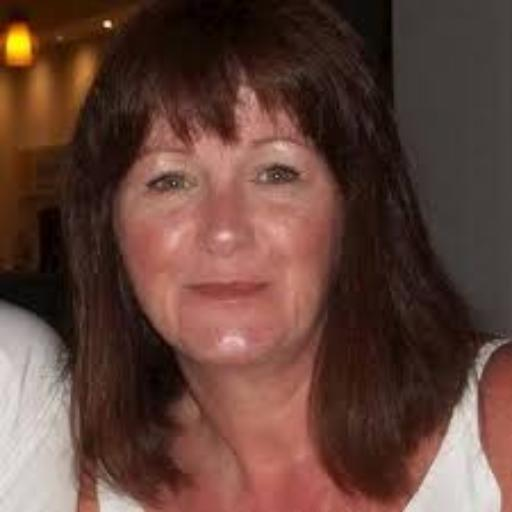left_eye: (250, 163, 306, 192)
left_lip_corner: (255, 275, 278, 296)
right_eye: (147, 171, 196, 198)
right_lip_corner: (178, 278, 203, 298)
